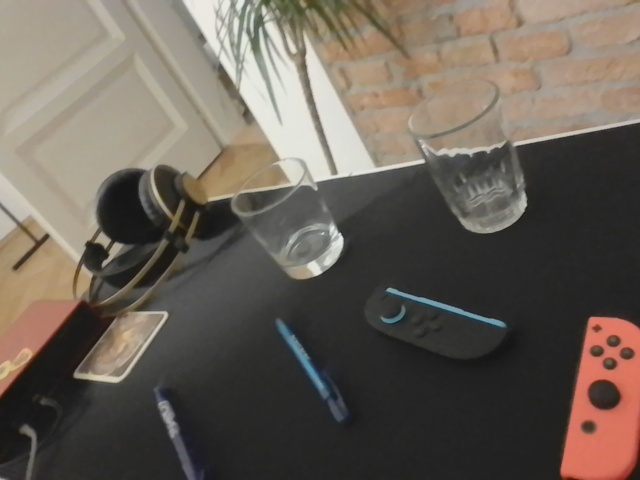glass: (403, 82, 531, 236), (228, 157, 348, 281)
joycon: (559, 318, 638, 478), (359, 282, 513, 361)
pen: (273, 314, 348, 422), (150, 385, 202, 479)
